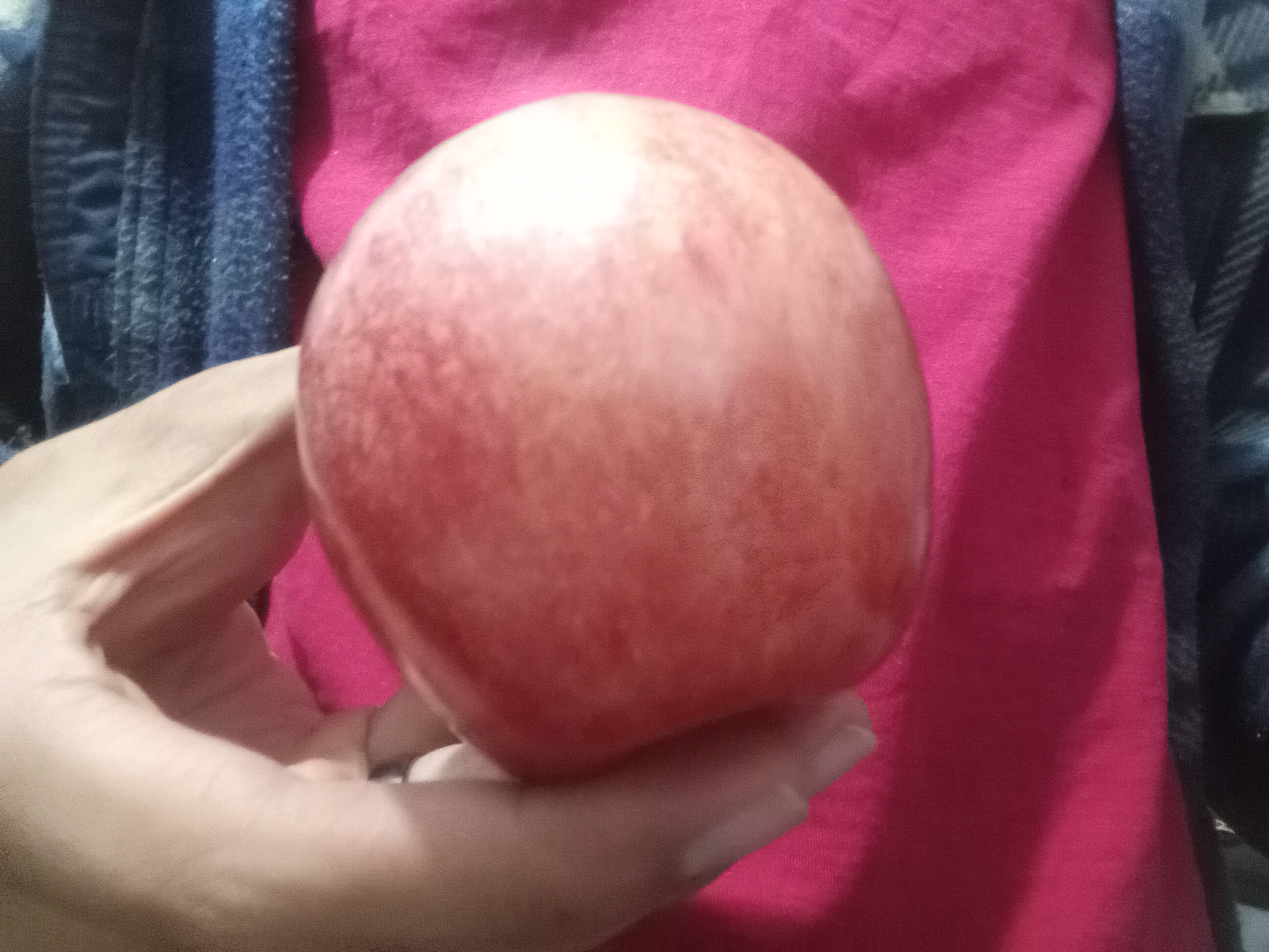Organico: (297, 93, 932, 782)
